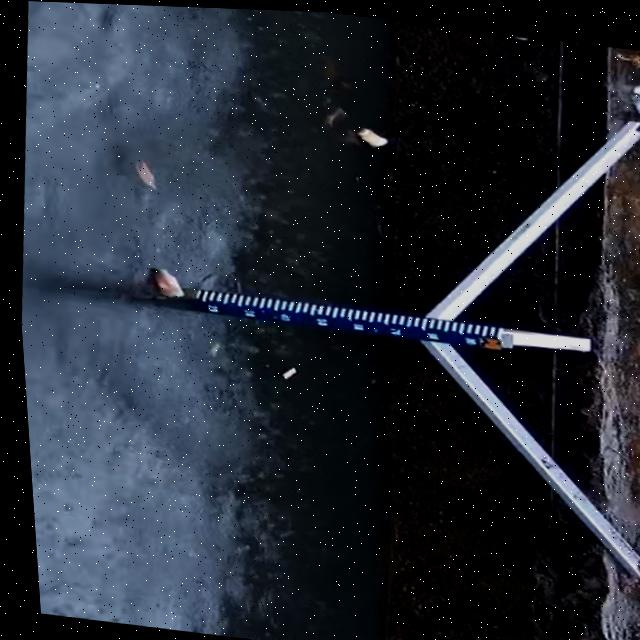water-meter: (177, 280, 514, 359)
